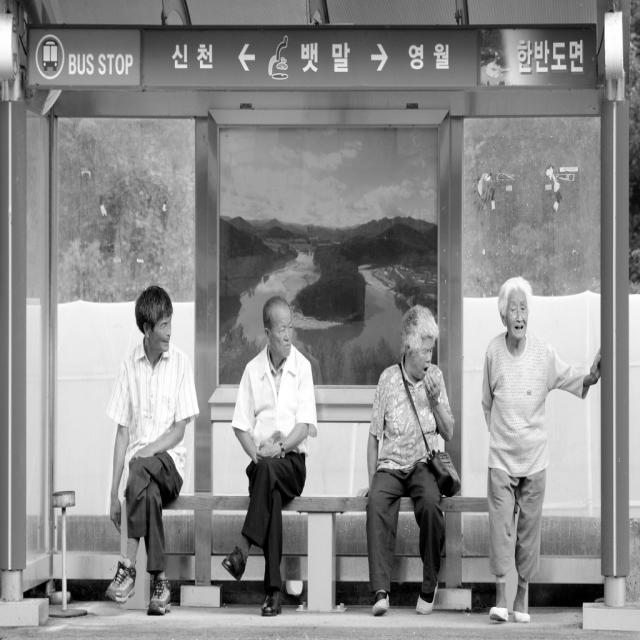person: (368, 276, 461, 611), (482, 270, 558, 620), (247, 277, 318, 609), (124, 279, 187, 618)
